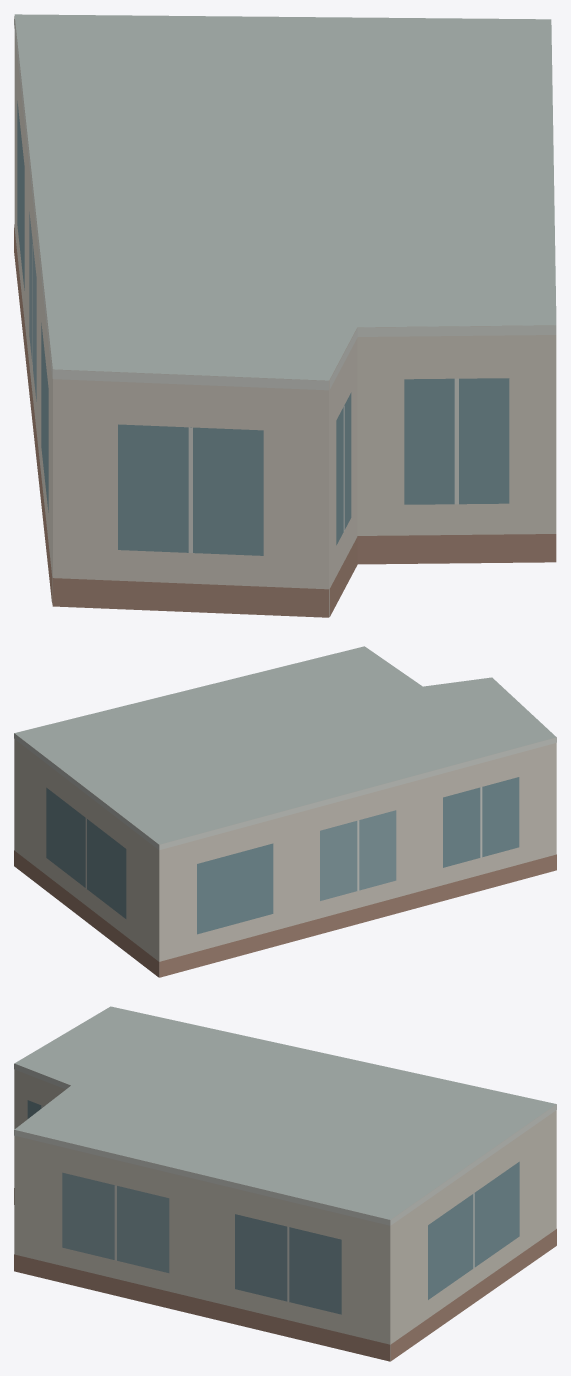
Rendered from survey-upis-32964709.glb.
3 renders of one model, top to bottom at view 1: azimuth 30°, elevation 25°; view 2: azimuth 150°, elevation 25°; view 3: azimuth 270°, elevation 25°, orthographic. The views are drawn at different scales.
Visible parts, largest first — view 1: survey-upis-32964709.tmp; view 2: survey-upis-32964709.tmp; view 3: survey-upis-32964709.tmp.
Part boxes in pixels (x1=…): survey-upis-32964709.tmp: x1=14, y1=14, x2=556, y2=617; survey-upis-32964709.tmp: x1=14, y1=646, x2=556, y2=977; survey-upis-32964709.tmp: x1=14, y1=1006, x2=556, y2=1361.
Size of the model in its own units: 9.88 by 3.05 by 10.6.
